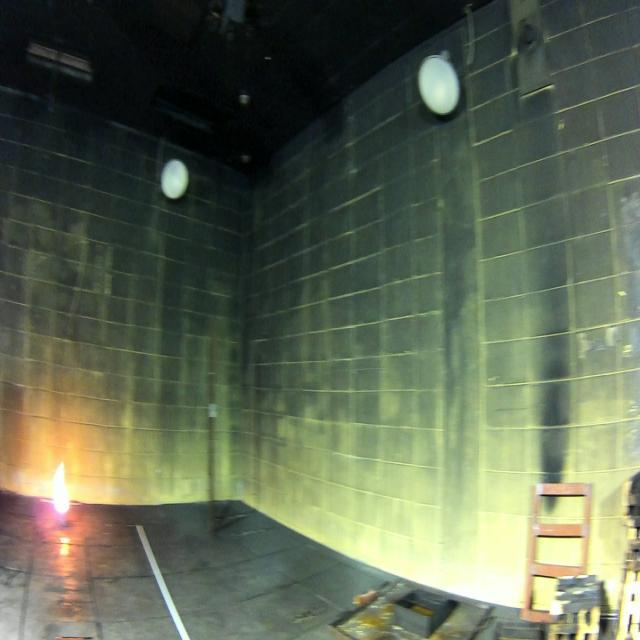Fire: (53, 461, 70, 513)
